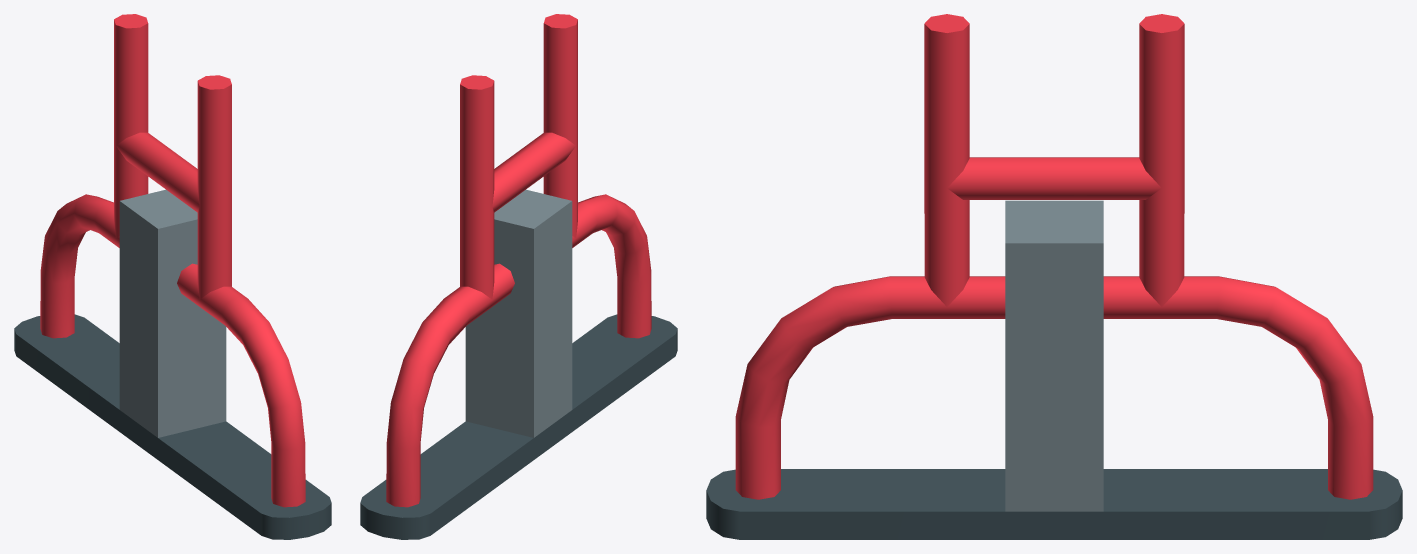
The model's file is Short_column_008.glb.
3 renders of one model, left to right at view 1: azimuth 30°, elevation 25°; view 2: azimuth 150°, elevation 25°; view 3: azimuth 270°, elevation 25°, orthographic. The views are drawn at different scales.
Visible parts, largest first — view 1: Short_column_008; view 2: Short_column_008; view 3: Short_column_008.
Boxes of the visible parts, x1,y1,x2,y2 form: Short_column_008: (14,14,331,539); Short_column_008: (360,14,677,539); Short_column_008: (706,14,1402,539).
Bounding box in the file's own units: 0.2406 × 1.3 × 1.66.
Materials: 1 (1 with a texture image).
